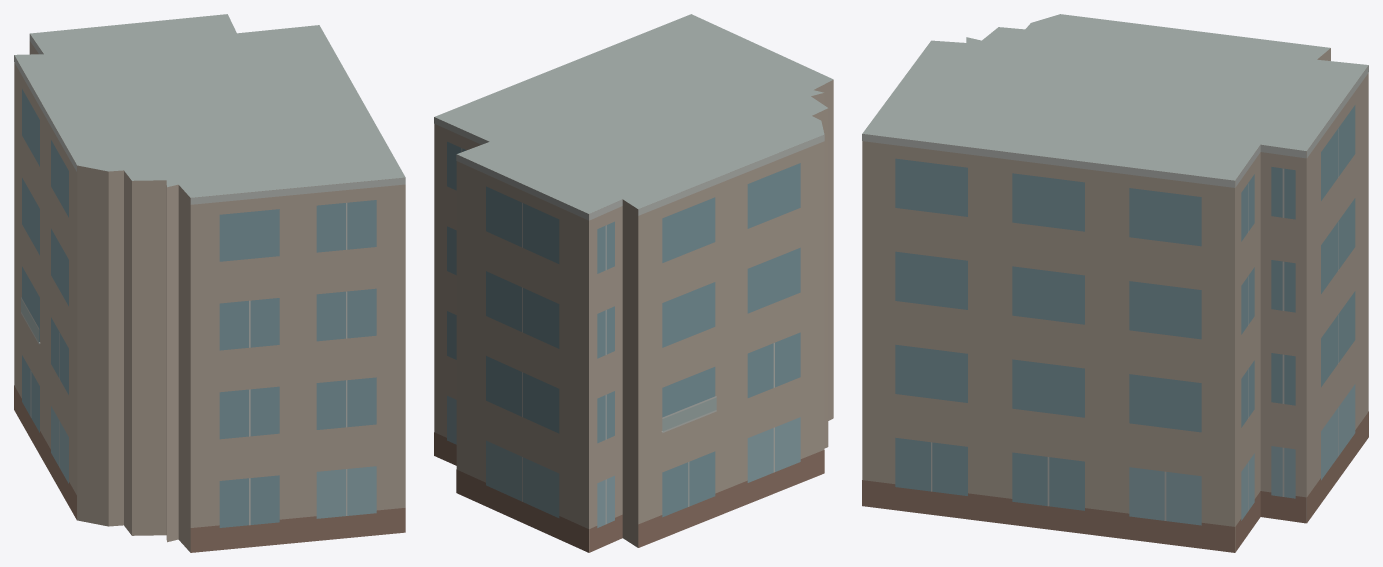
The model's file is survey-upis-32879209.glb.
3 renders of one model, left to right at view 1: azimuth 30°, elevation 25°; view 2: azimuth 150°, elevation 25°; view 3: azimuth 270°, elevation 25°, orthographic. The views are drawn at different scales.
Parts seen in each view (by area): view 1: survey-upis-32879209.tmp; view 2: survey-upis-32879209.tmp; view 3: survey-upis-32879209.tmp.
Boxes of the visible parts, left/top/right/bottom form: survey-upis-32879209.tmp: left=14, top=14, right=405, bottom=552; survey-upis-32879209.tmp: left=434, top=14, right=833, bottom=552; survey-upis-32879209.tmp: left=862, top=14, right=1368, bottom=552.
Size of the model in its own units: 11.91 by 12.4 by 15.31.
